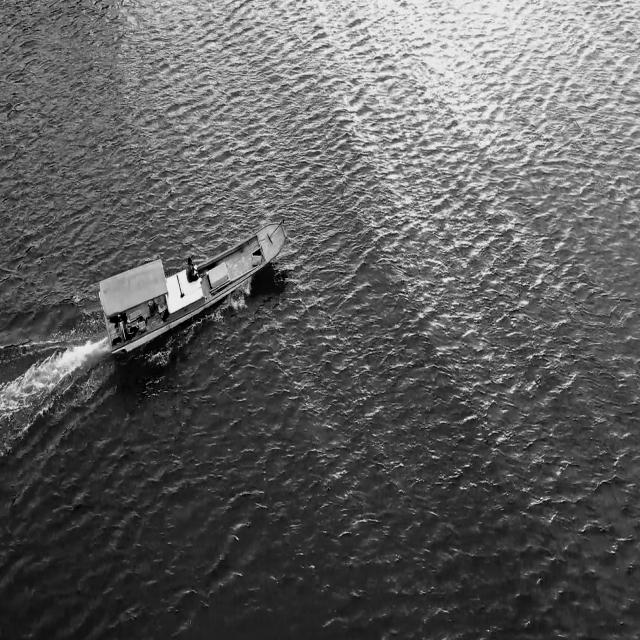ship: (96, 209, 294, 357)
